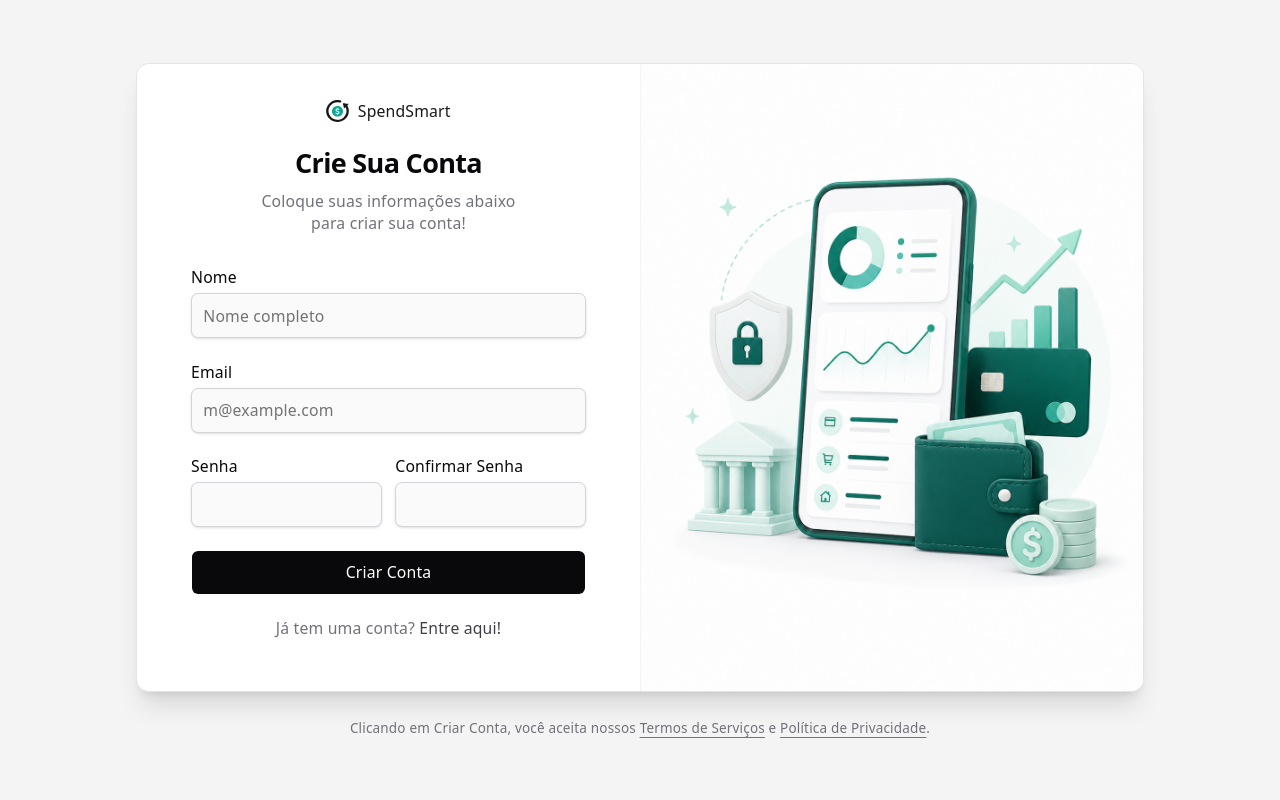
it: Cadastro › deve exibir mensagem de erro quando a API rejeitar o cadastro
In the field labelled "Nome": coordinates (388, 316) x1=191 y1=293 x2=586 y2=338, type "Maria Luiza"
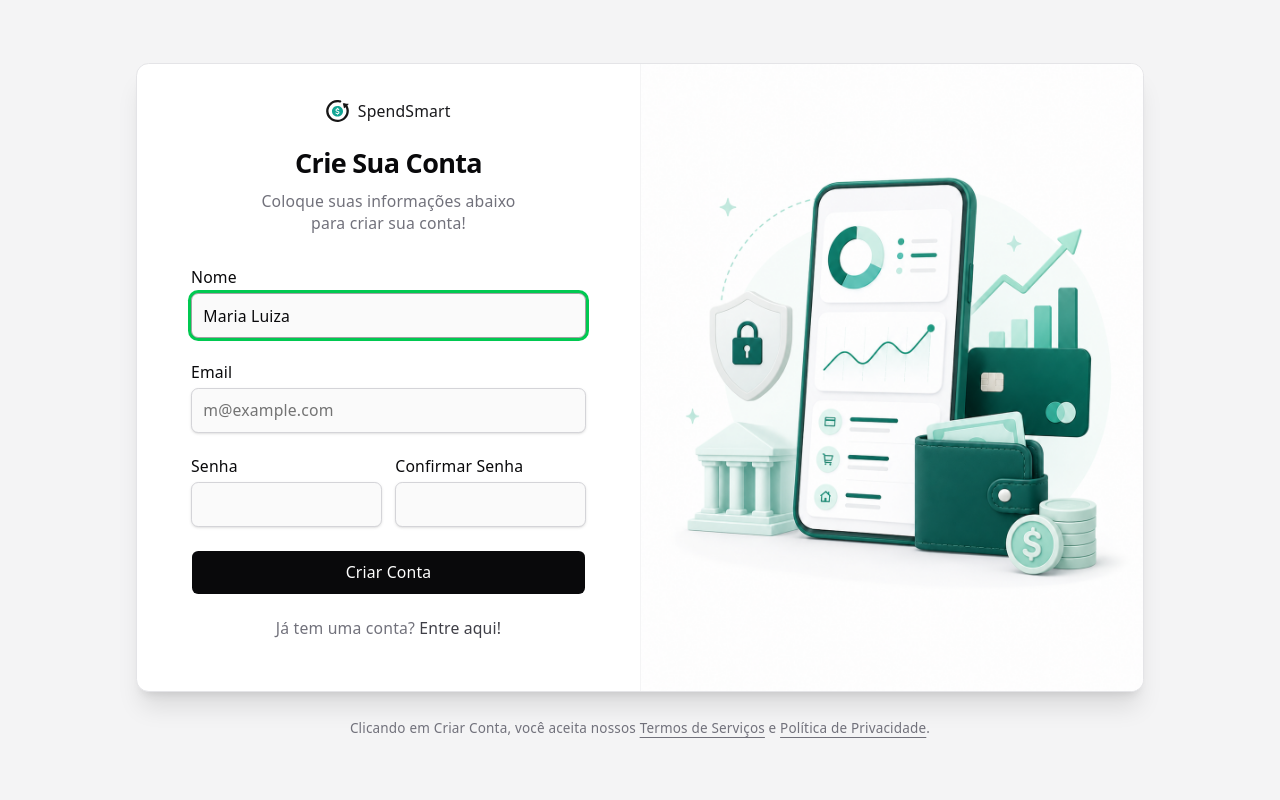
In the field labelled "Email": coordinates (388, 410) x1=191 y1=388 x2=586 y2=433, type "maria@email.com"
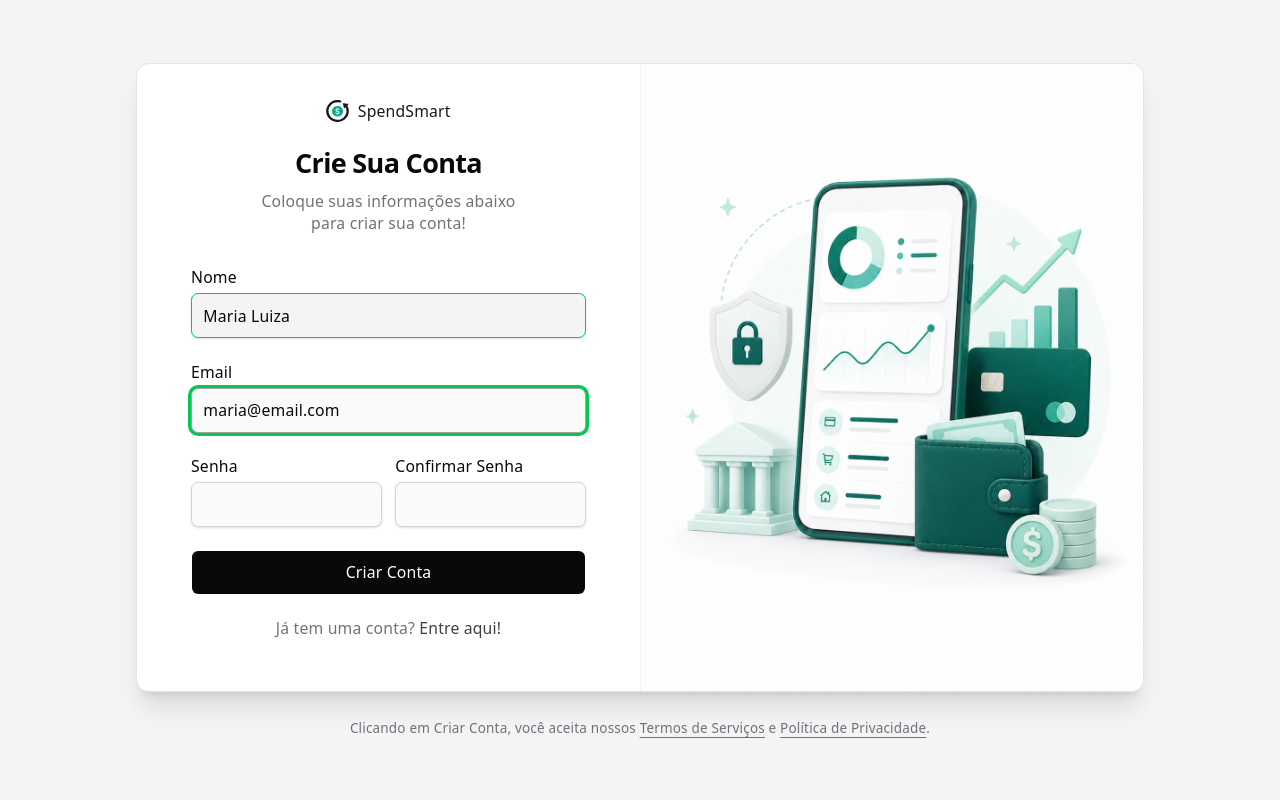
In the password field labelled "Senha": coordinates (286, 505) x1=191 y1=482 x2=382 y2=527, type "Senha123"
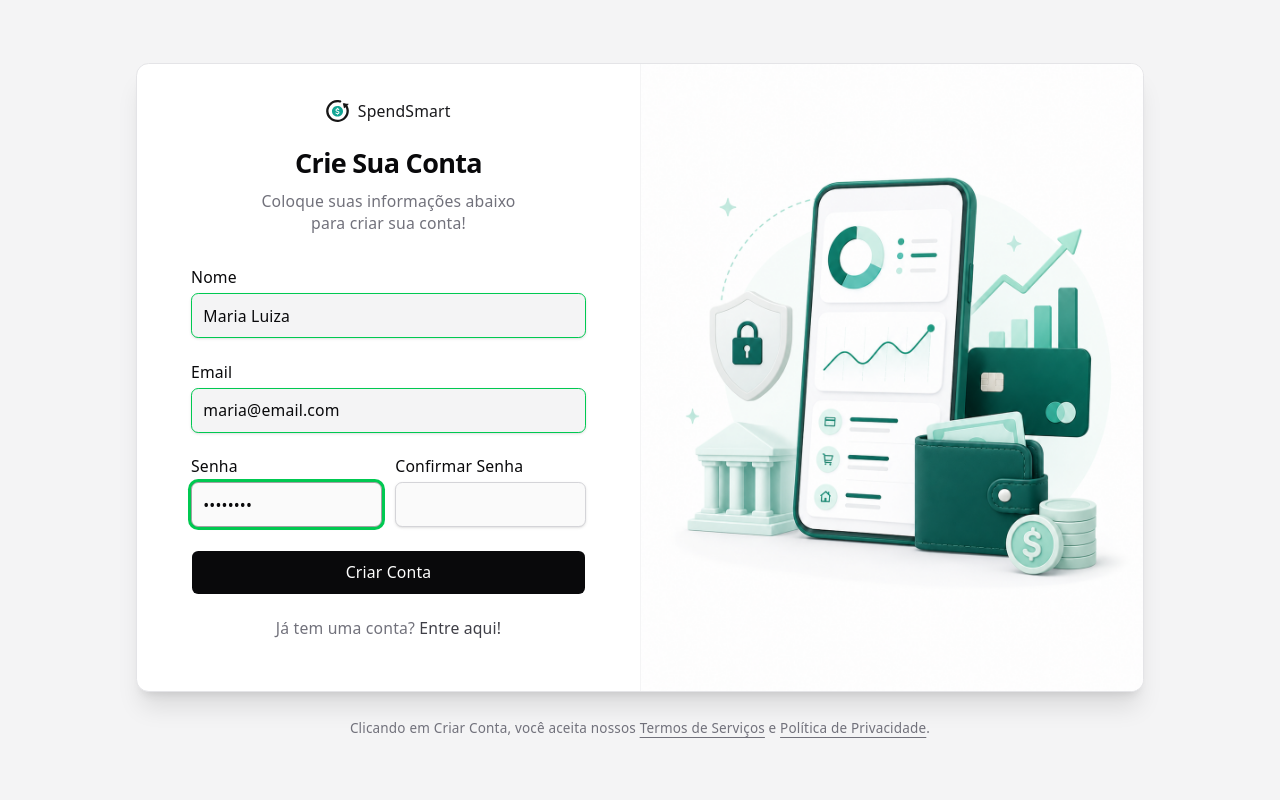
In the password field labelled "Confirmar Senha": coordinates (491, 505) x1=395 y1=482 x2=586 y2=527, type "Senha123"
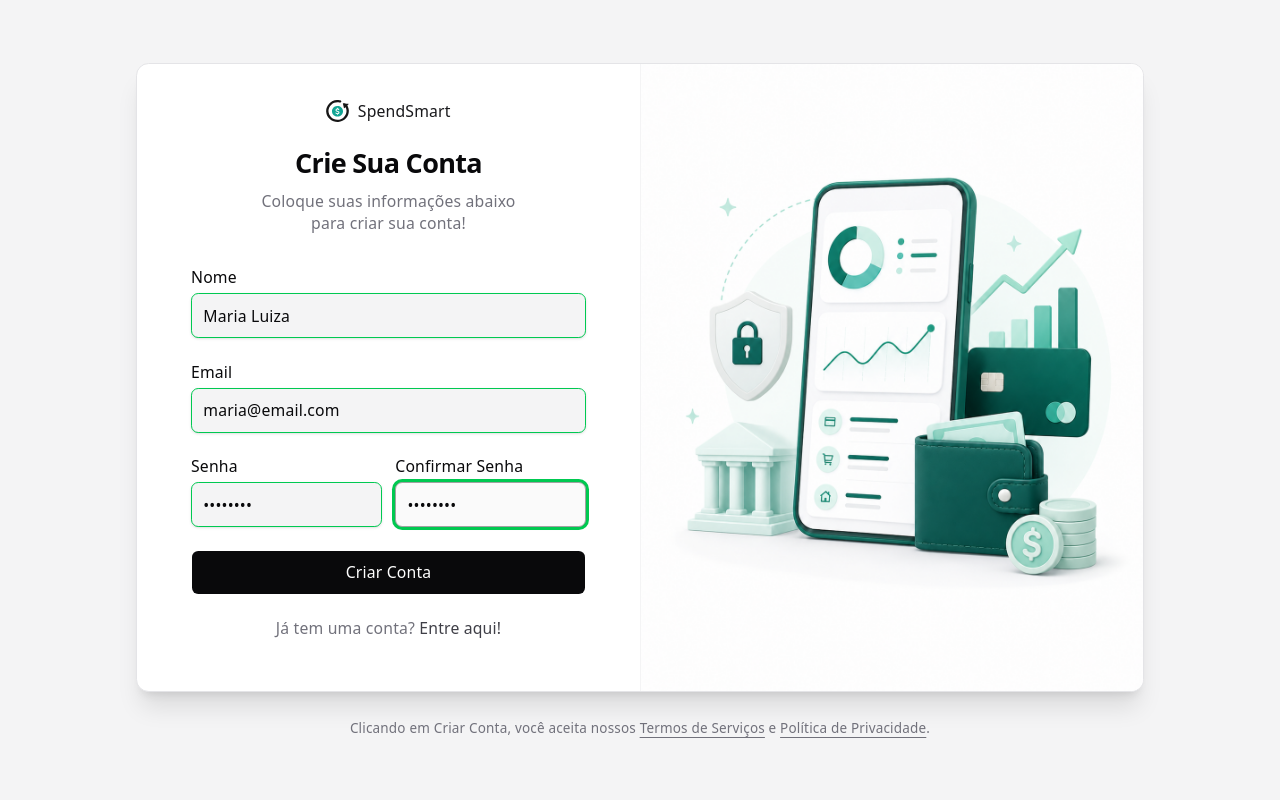
Click the button "Criar Conta": coordinates (388, 572) x1=191 y1=550 x2=586 y2=595
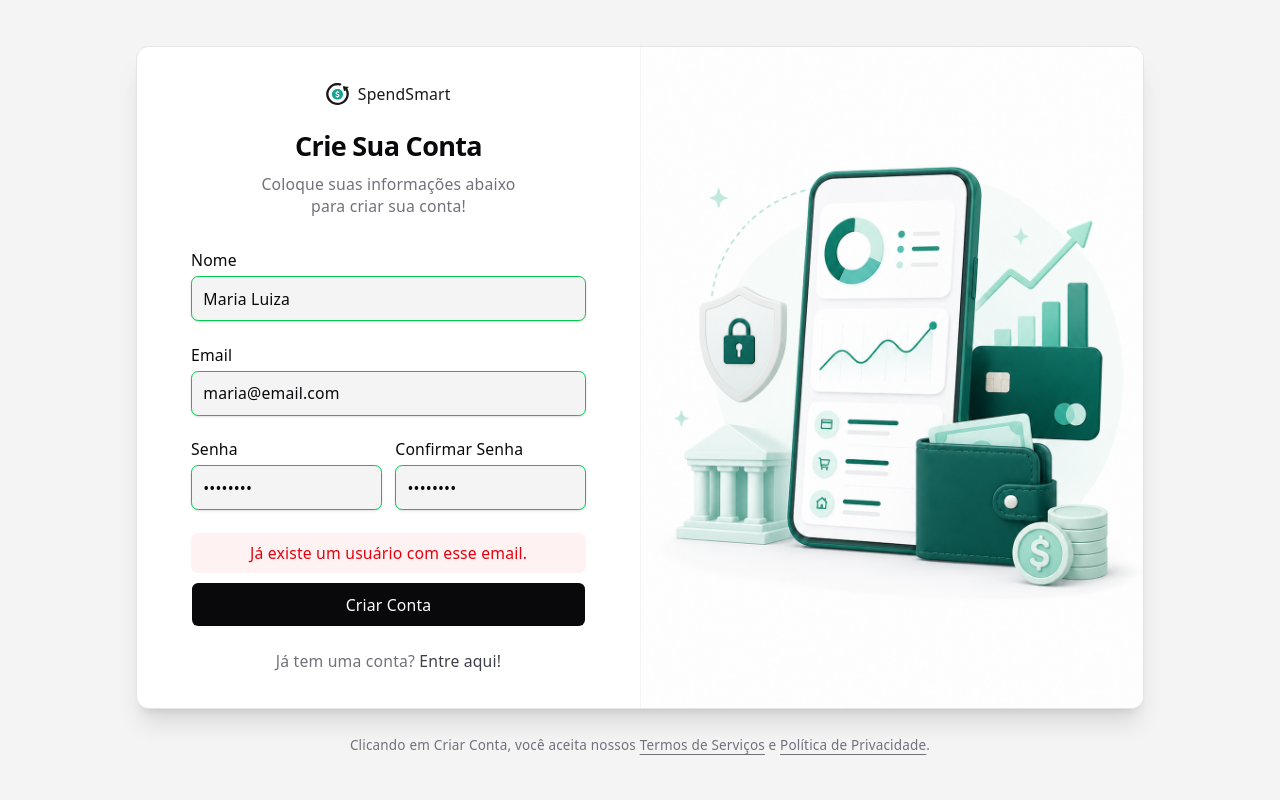
Expected: the button "Criar Conta" is enabled, x1=191 y1=582 x2=586 y2=627
Result: the text "Já existe um usuário com esse email." is shown at x1=191 y1=533 x2=586 y2=573
